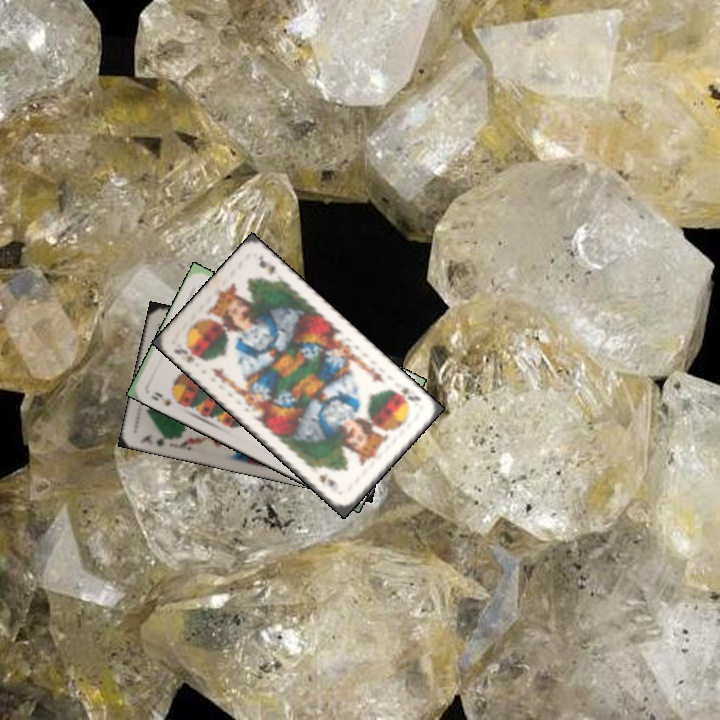GK: (137, 430, 176, 449)
S9: (147, 388, 175, 409)
SK: (388, 383, 424, 406), (170, 342, 204, 366)
